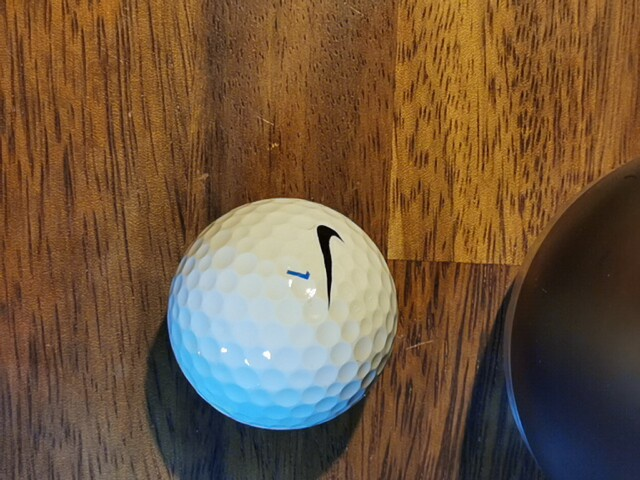Ball: (167, 198, 399, 431)
Nike: (316, 224, 344, 310)
